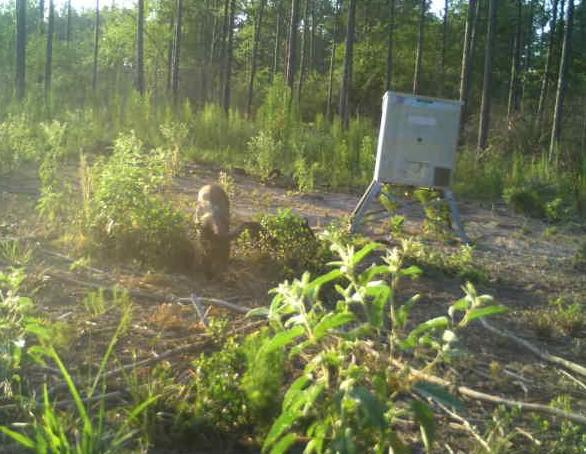Hog: (193, 184, 236, 285)
